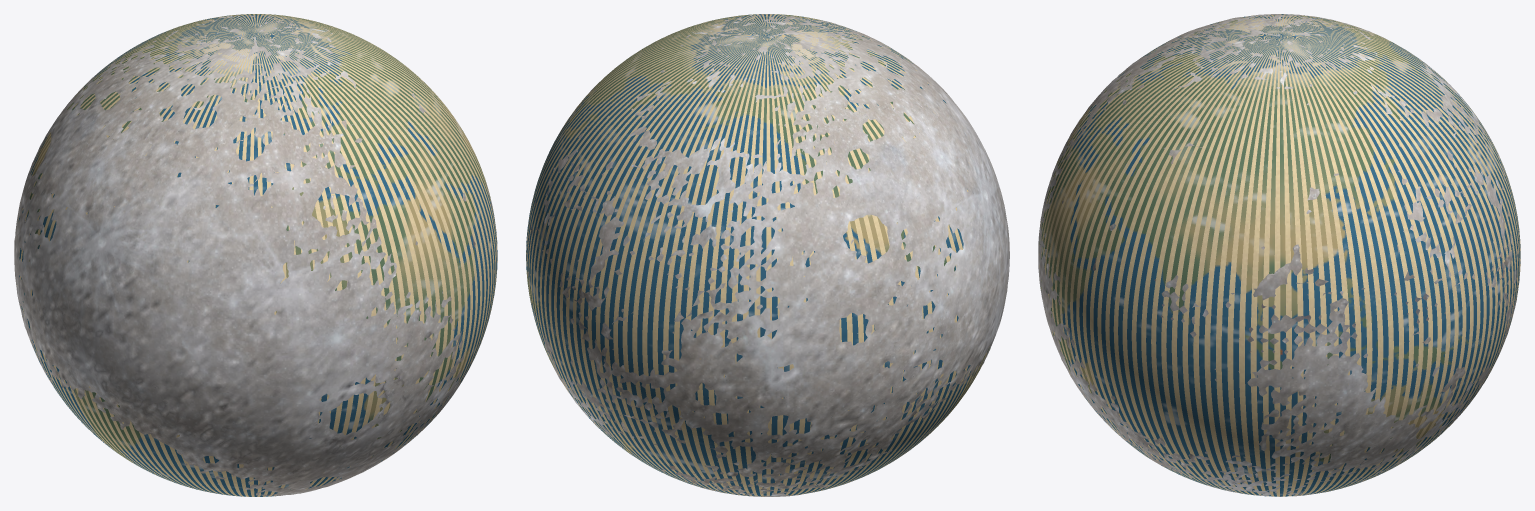
File: surfaces.glb
3 renders of one model, left to right at view 1: azimuth 30°, elevation 25°; view 2: azimuth 150°, elevation 25°; view 3: azimuth 270°, elevation 25°, orthographic.
Visible parts, largest first — view 1: moon-body, sun-body, earth-body; view 2: moon-body, earth-body, sun-body; view 3: sun-body, earth-body, moon-body.
Part boxes in pixels (left/top/right/bottom): moon-body: left=14, top=14, right=493, bottom=495; sun-body: left=17, top=14, right=497, bottom=496; earth-body: left=18, top=14, right=497, bottom=496; moon-body: left=527, top=14, right=1009, bottom=496; earth-body: left=526, top=14, right=989, bottom=496; sun-body: left=526, top=14, right=989, bottom=496; sun-body: left=1039, top=14, right=1520, bottom=496; earth-body: left=1039, top=14, right=1520, bottom=496; moon-body: left=1038, top=14, right=1518, bottom=496.
Bounding box in the file's own units: 2 × 2 × 2.
3 materials, 3 textured.
